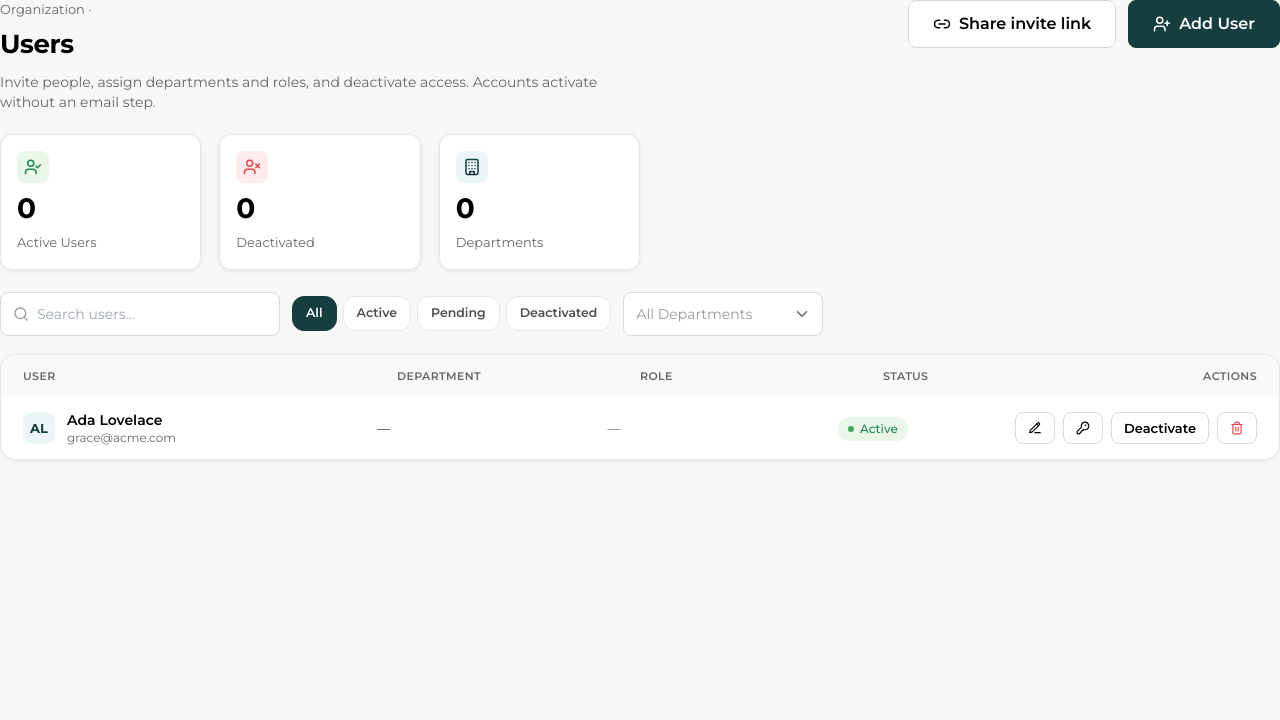
Remove blocked by a dependency surfaces the reason and keeps the dialog open
Expected: the text "Ada Lovelace" is shown, left=67, top=410, right=176, bottom=430
Step 1. Click the button named "Remove Ada Lovelace" → (1237, 428), box left=1217, top=412, right=1257, bottom=444
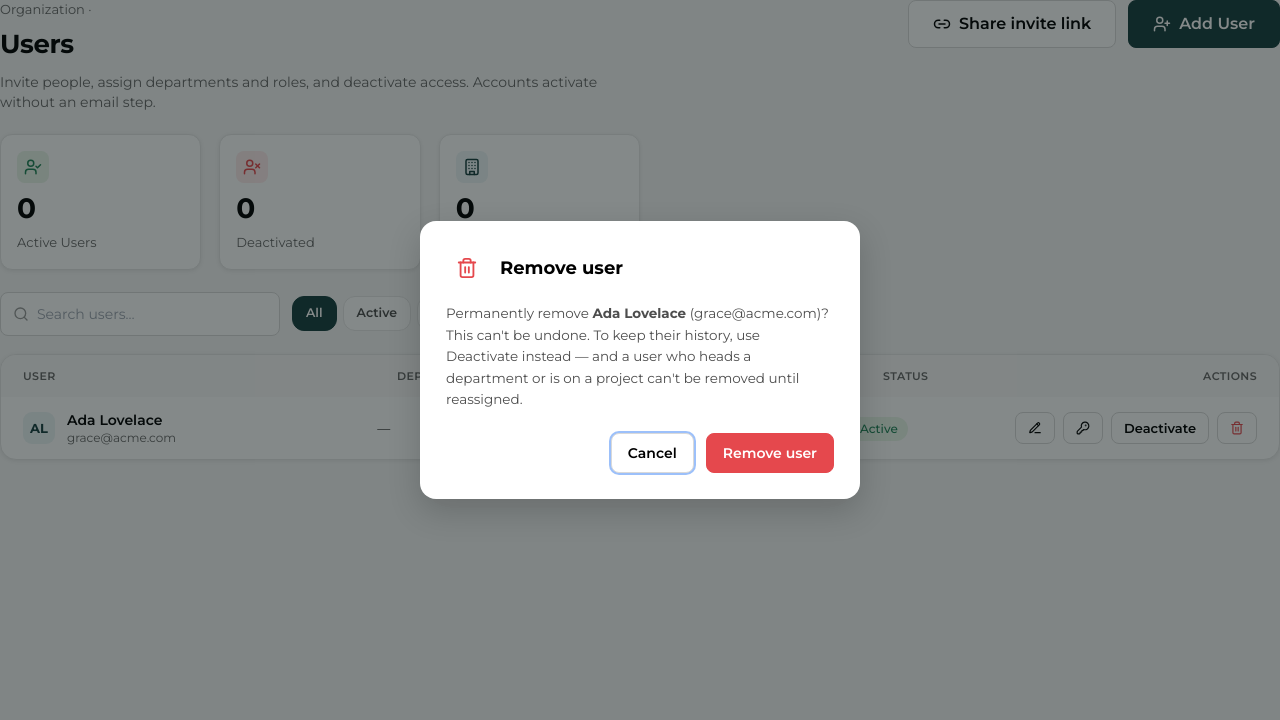
Step 2. Click the button "Remove user" → (770, 453), box left=706, top=433, right=834, bottom=473
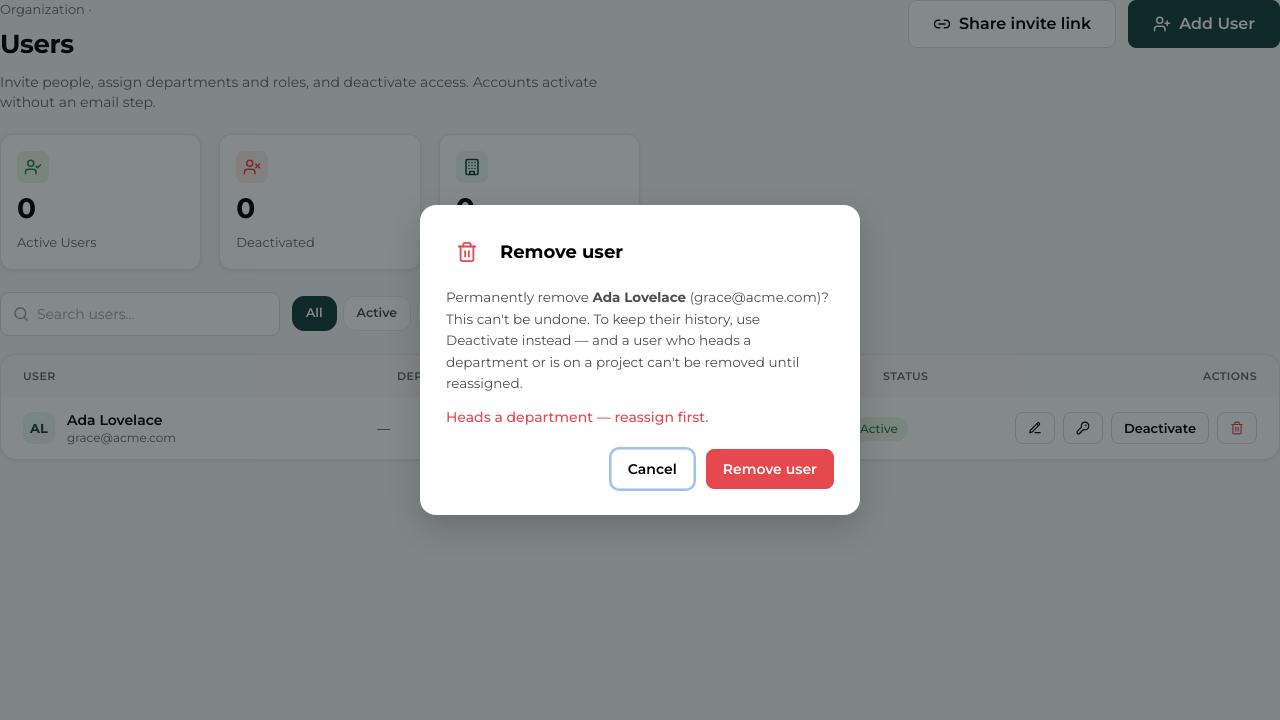
Expected: the dialog is shown, left=420, top=205, right=860, bottom=515
Expected: the text "Heads a department — reassign first." is shown, left=446, top=408, right=708, bottom=426
